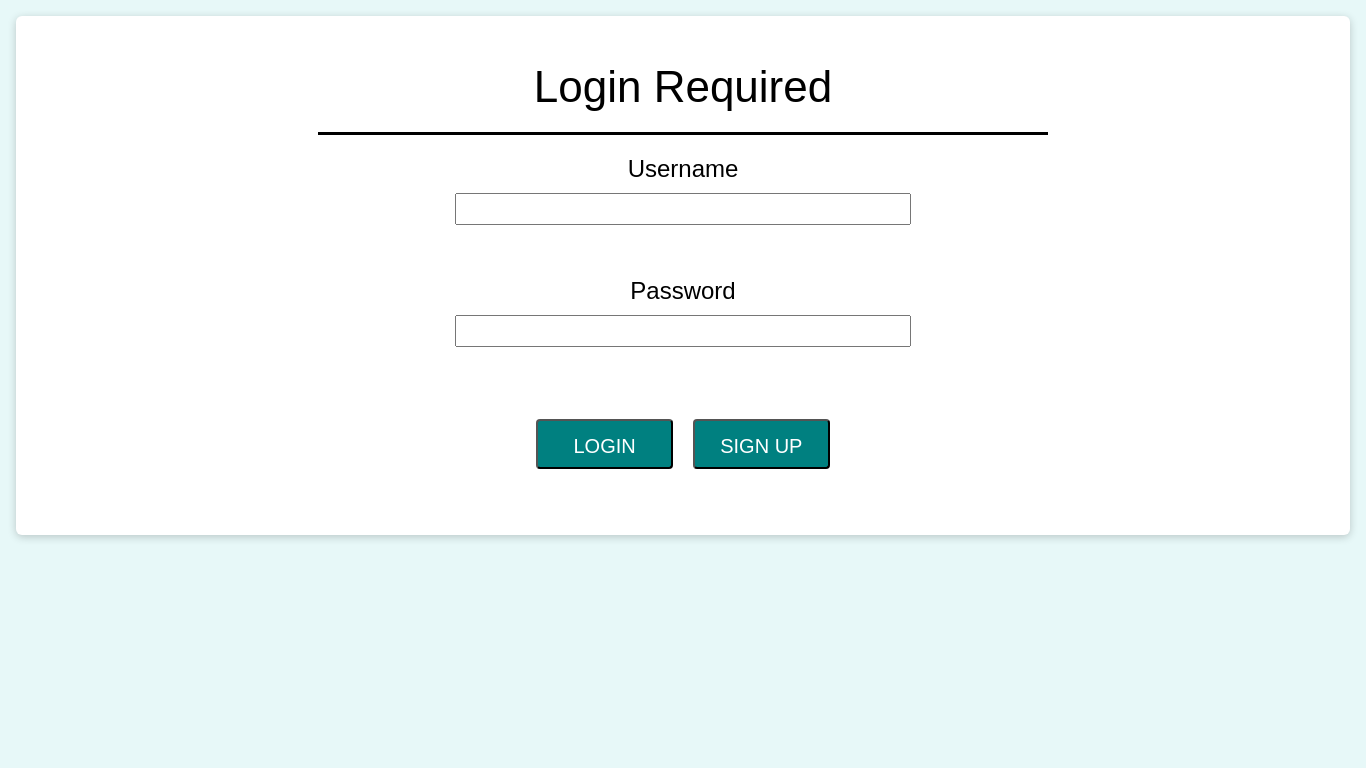
Test: Login Testing › Succesfully done › Validation error testing
Click the button "LOGIN": (605, 444) [536,419,673,469]
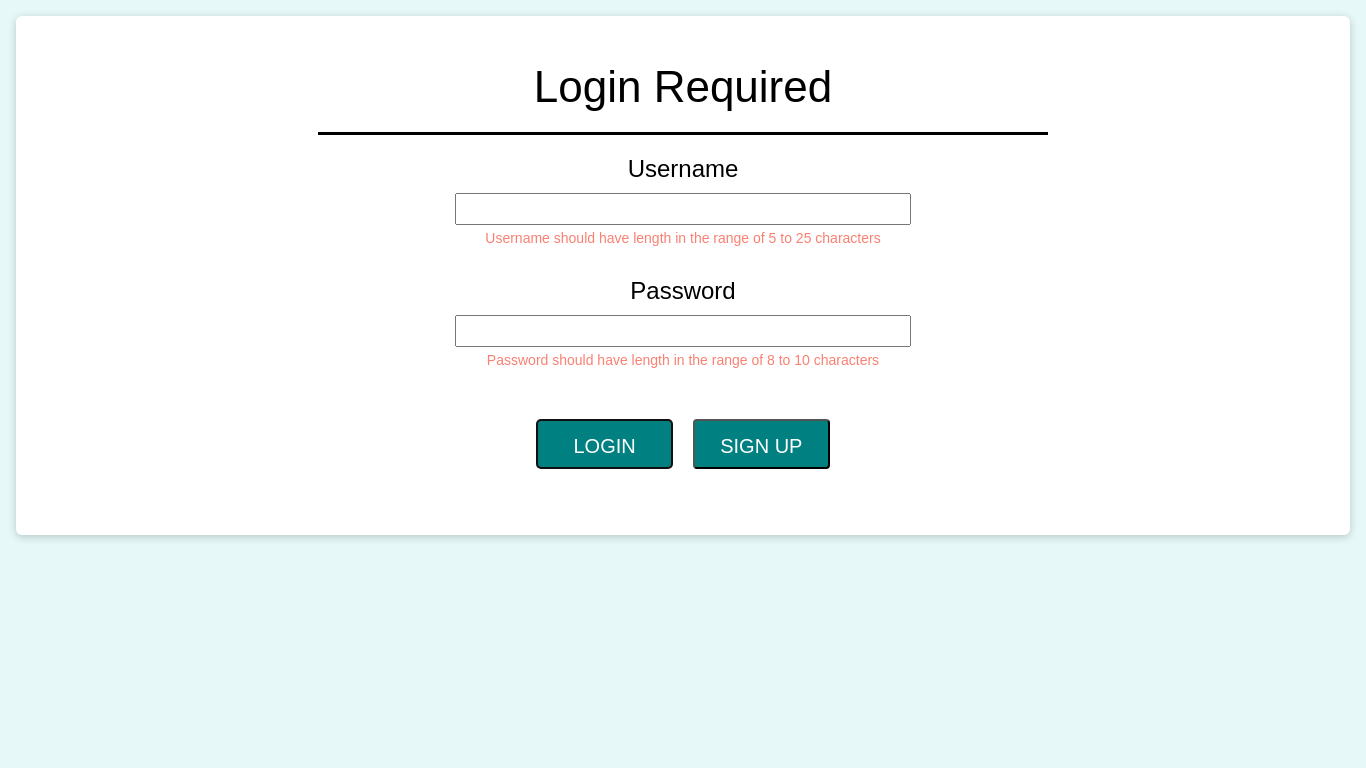
Check: the text "Username should have length in the range of 5 to 25 characters" is shown, box [485,230,881,246]
Check: the text "Password should have length in the range of 8 to 10 characters" is shown, box [487,352,879,368]
